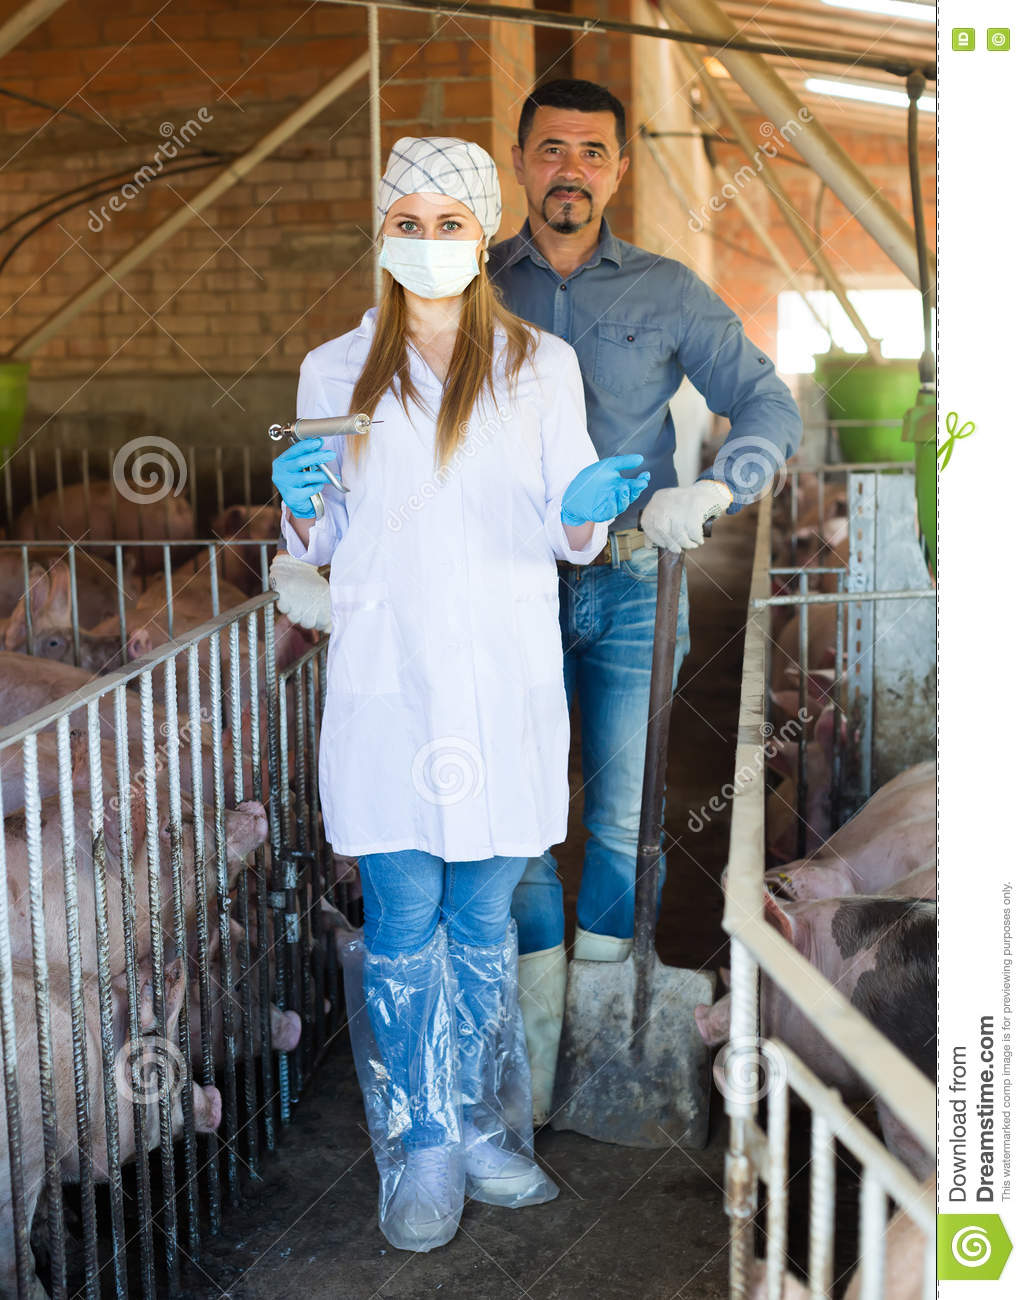mask: (385, 225, 495, 305)
